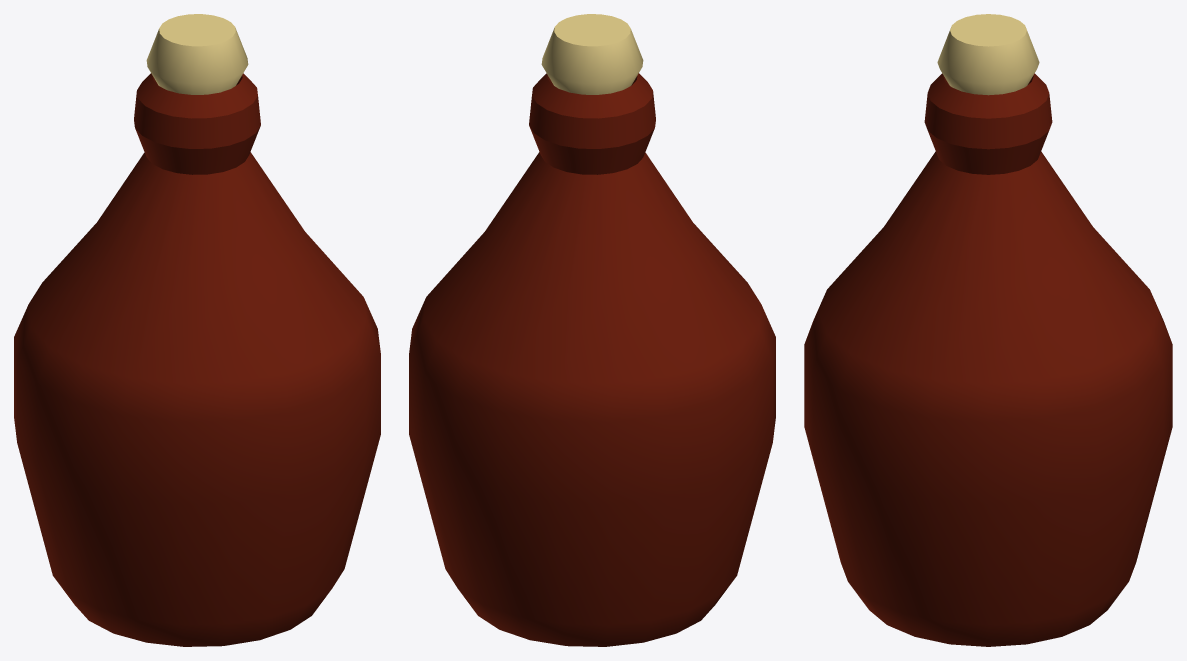
The model's file is CodeBottle.fbx.
The picture shows the model from 3 angles, left to right: view 1: azimuth 30°, elevation 25°; view 2: azimuth 150°, elevation 25°; view 3: azimuth 270°, elevation 25°; orthographic projection.
Visible parts, largest first — view 1: Potion; view 2: Potion; view 3: Potion.
Boxes of the visible parts, <box> form: Potion: <box>14,14,380,646</box>; Potion: <box>409,14,775,646</box>; Potion: <box>804,14,1172,646</box>.
Bounding box in the file's own units: 21.09 × 35.6 × 21.09.
2 materials, 1 textured.
